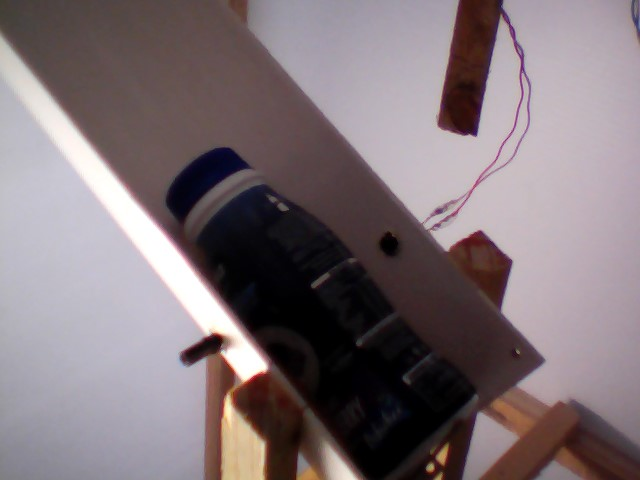plastico: (161, 142, 482, 480)
